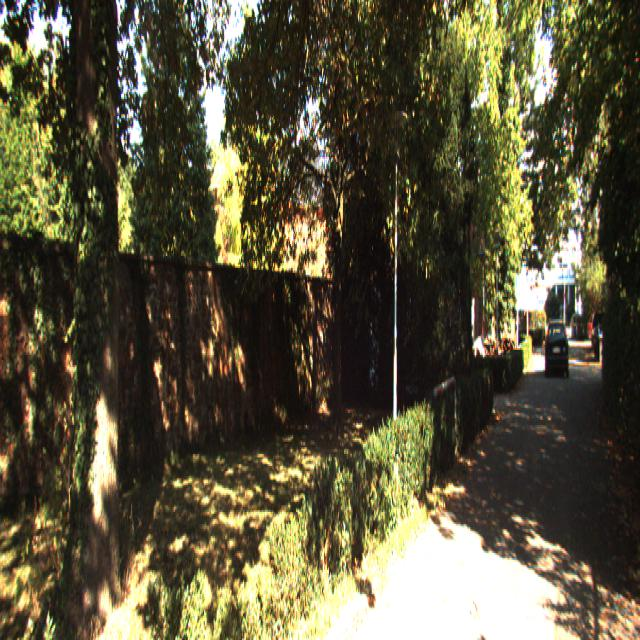Car: (546, 316, 570, 377)
